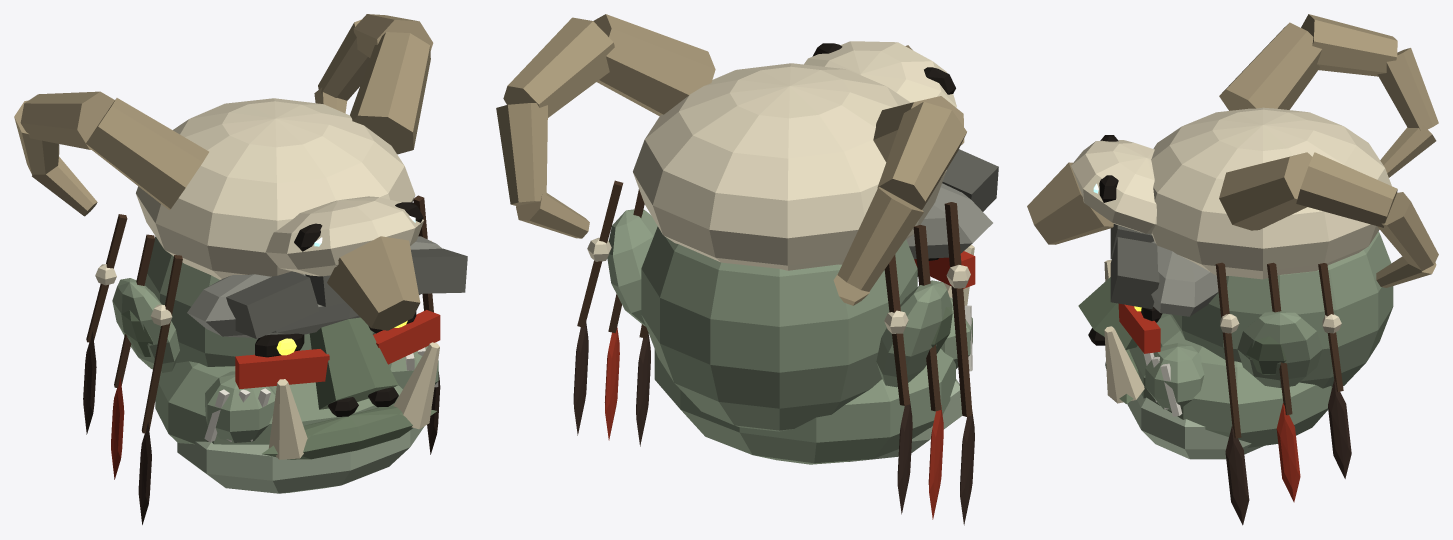
The model's file is stonebrow_shaman_head.glb.
3 renders of one model, left to right at view 1: azimuth 30°, elevation 25°; view 2: azimuth 150°, elevation 25°; view 3: azimuth 270°, elevation 25°, orthographic. The views are drawn at different scales.
Parts seen in each view (by area): view 1: stonebrow_shaman_head; view 2: stonebrow_shaman_head; view 3: stonebrow_shaman_head.
Boxes of the visible parts, x1,y1,x2,y2 form: stonebrow_shaman_head: (14, 14, 467, 524); stonebrow_shaman_head: (496, 14, 998, 525); stonebrow_shaman_head: (1027, 14, 1438, 525).
Size of the model in its own units: 0.9382 by 0.9707 by 0.9659.
